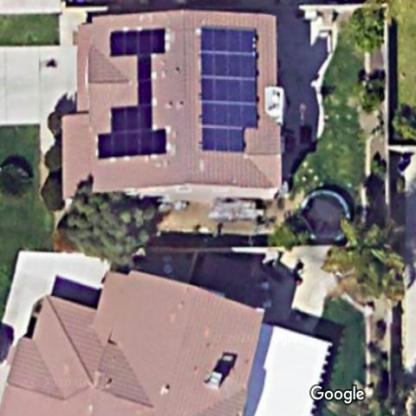solar_panel: (101, 21, 176, 166)
swimming_pool: (188, 16, 264, 159)
